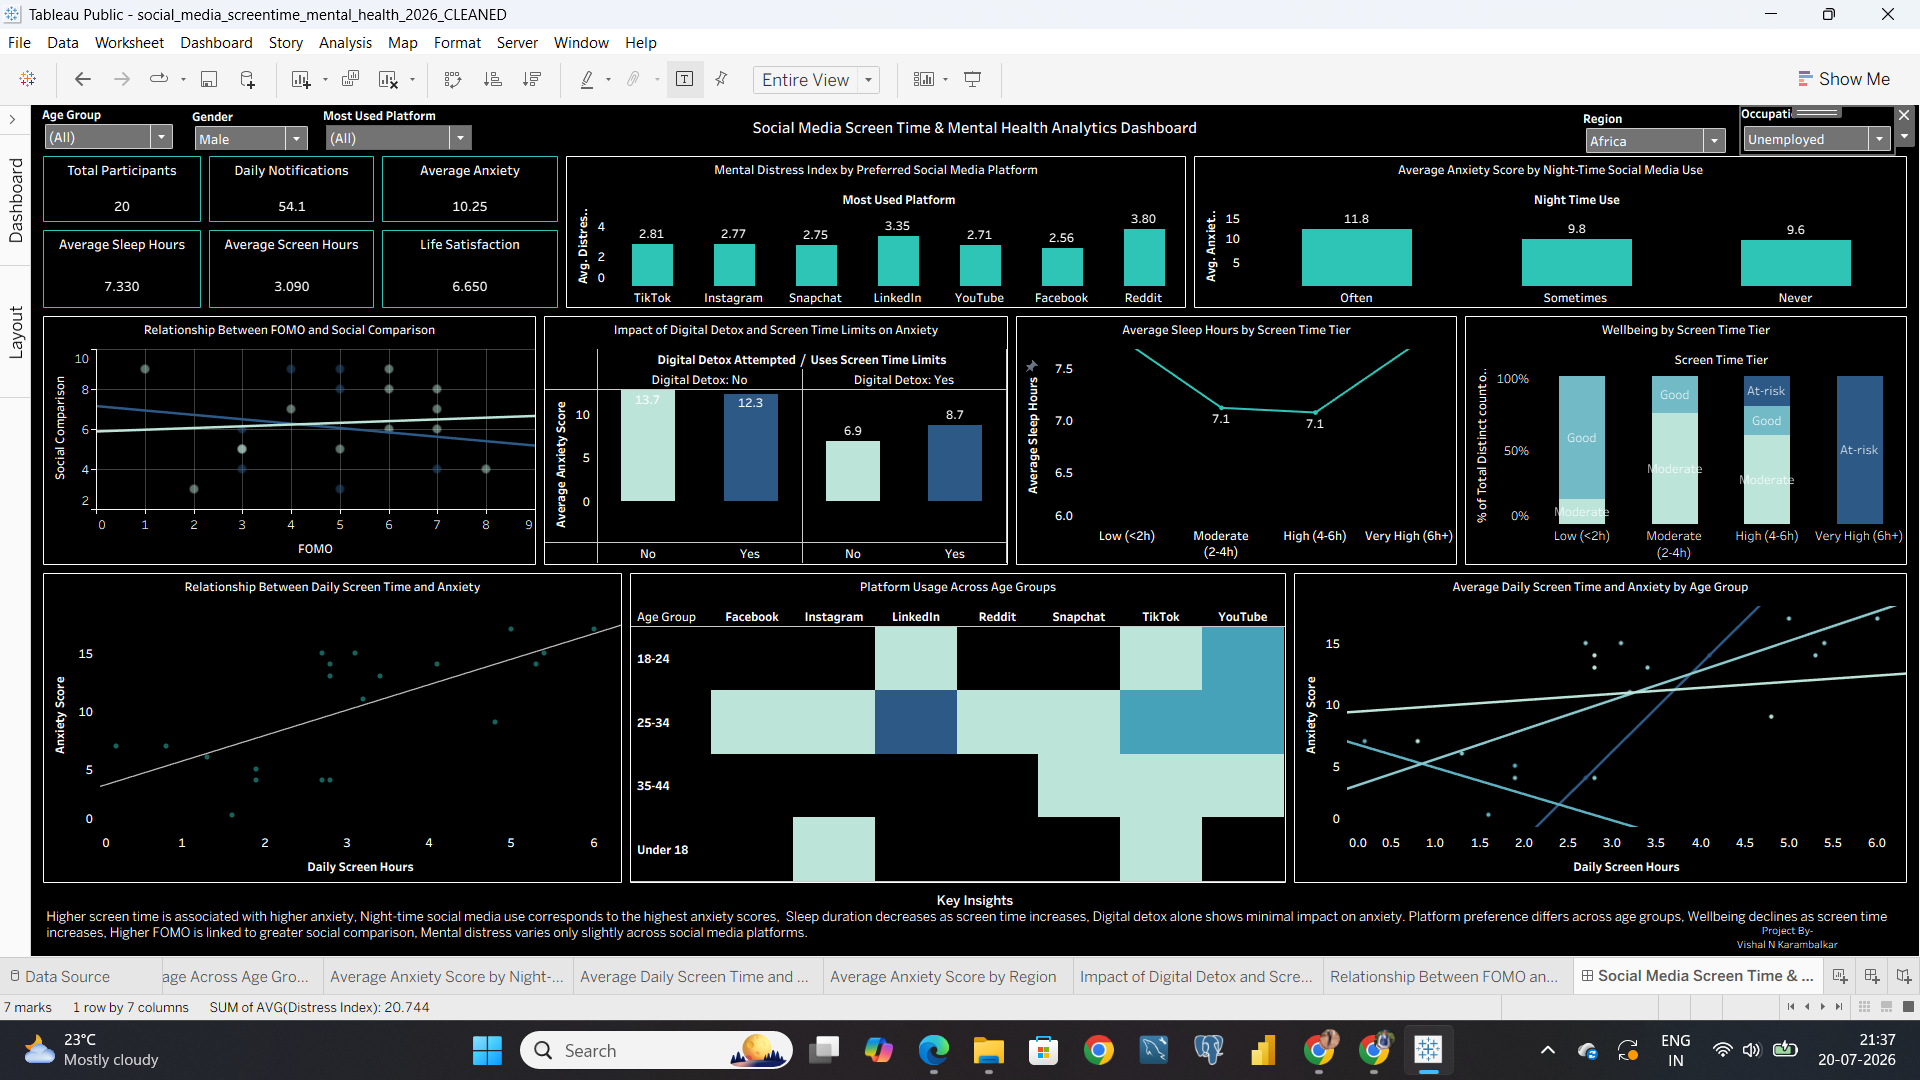

The page's visual inventory and layout, read from the dashboard file:
{"tool":"tableau","page":{"name":"Social Media Screen Time & Mental Health Analytics Dashboard","canvas":[1000,1000],"units":"permille","ordinal":0},"visuals":[{"type":"filter","title":"Mental Distress Index by Preferred Social Media Platform","param":"[federated.1sczvrt1bvneyr1fstjg40nrgwpp].[none:occupation:nk]","box":[905.7,0,80.8,57.6]},{"type":"filter","title":"Mental Distress Index by Preferred Social Media Platform","param":"[federated.1sczvrt1bvneyr1fstjg40nrgwpp].[none:age_group:nk]","box":[5.8,1.2,71,51.7]},{"type":"filter","title":"Mental Distress Index by Preferred Social Media Platform","param":"[federated.1sczvrt1bvneyr1fstjg40nrgwpp].[none:most_used_platform:nk]","box":[154.7,2.4,80.3,51.7]},{"type":"filter","title":"Mental Distress Index by Preferred Social Media Platform","param":"[federated.1sczvrt1bvneyr1fstjg40nrgwpp].[none:gender:nk]","box":[85.5,3.5,63.3,49.4]},{"type":"filter","title":"Mental Distress Index by Preferred Social Media Platform","param":"[federated.1sczvrt1bvneyr1fstjg40nrgwpp].[none:region:nk]","box":[821.9,5.9,77.3,50.5]},{"type":"text","box":[4.2,9.4,991.5,34.1]},{"type":"worksheet","title":"Total Participants","mark":"Automatic","box":[4.2,55.2,87.9,86.8]},{"type":"worksheet","title":"Daily Notifications","mark":"Automatic","box":[92.1,55.2,91.5,86.8]},{"type":"worksheet","title":"Average Anxiety","mark":"Automatic","box":[183.6,55.2,97.6,86.8]},{"type":"worksheet","title":"Mental Distress Index by Preferred Social Media Platform","mark":"Automatic","rows":["distress_index"],"cols":["most_used_platform"],"box":[281.2,55.2,332.8,188.2]},{"type":"worksheet","title":"Average Anxiety Score by Night-Time Social Media Use","mark":"Automatic","rows":["anxiety_score_0to27"],"cols":["night_time_use"],"box":[614,55.2,381.8,188.2]},{"type":"worksheet","title":"Average Sleep Hours","mark":"Automatic","box":[4.2,142.1,87.9,101.3]},{"type":"worksheet","title":"Average Screen Hours","mark":"Automatic","box":[92.1,142.1,91.5,101.3]},{"type":"worksheet","title":"Life Satisfaction","mark":"Automatic","box":[183.6,142.1,97.6,101.3]},{"type":"worksheet","title":"Relationship Between FOMO and Social Comparison","mark":"Circle","rows":["social_comparison_1to10"],"cols":["fomo_1to10"],"box":[4.2,243.4,265.5,301.8]},{"type":"worksheet","title":"Impact of Digital Detox and Screen Time Limits on Anxiety","mark":"Bar","rows":["anxiety_score_0to27"],"cols":["digital_detox_attempted","uses_screen_time_limits"],"box":[269.8,243.4,249.8,301.8]},{"type":"worksheet","title":"Average Sleep Hours by Screen Time Tier","mark":"Line","rows":["avg_sleep_hours"],"cols":["screen_time_tier"],"box":[519.5,243.4,238.1,301.8]},{"type":"worksheet","title":"Wellbeing by Screen Time Tier","mark":"Bar","cols":["screen_time_tier"],"box":[757.6,243.4,238.1,301.8]},{"type":"worksheet","title":"Relationship Between Daily Screen Time and Anxiety","mark":"Circle","rows":["anxiety_score_0to27"],"cols":["daily_screen_hours"],"box":[4.2,545.2,310.7,373.2]},{"type":"worksheet","title":"Platform Usage Across Age Groups","mark":"Automatic","rows":["age_group"],"cols":["most_used_platform"],"box":[314.9,545.2,351.8,373.2]},{"type":"worksheet","title":"Average Daily Screen Time and Anxiety by Age Group","mark":"Circle","rows":["anxiety_score_0to27"],"cols":["daily_screen_hours"],"box":[666.8,545.2,329,373.2]},{"type":"text","box":[4.2,918.4,991.5,72.2]},{"type":"text","box":[885.1,956.5,90.6,42.3]}]}

Visuals, with their boxes on the dashboard's canvas, which has no fixed pixel size, in thousandths of its width and height (x1, y1, x2, y2). These are canvas units, not pixel positions in the 1920x1080 screenshot, which may show the page scaled, cropped or inside an application window:
"Mental Distress Index by Preferred Social Media Platform" filter: box(906, 0, 986, 58)
"Mental Distress Index by Preferred Social Media Platform" filter: box(6, 1, 77, 53)
"Mental Distress Index by Preferred Social Media Platform" filter: box(155, 2, 235, 54)
"Mental Distress Index by Preferred Social Media Platform" filter: box(86, 4, 149, 53)
"Mental Distress Index by Preferred Social Media Platform" filter: box(822, 6, 899, 56)
text: box(4, 9, 996, 44)
"Total Participants" worksheet: box(4, 55, 92, 142)
"Daily Notifications" worksheet: box(92, 55, 184, 142)
"Average Anxiety" worksheet: box(184, 55, 281, 142)
"Mental Distress Index by Preferred Social Media Platform" worksheet: box(281, 55, 614, 243)
"Average Anxiety Score by Night-Time Social Media Use" worksheet: box(614, 55, 996, 243)
"Average Sleep Hours" worksheet: box(4, 142, 92, 243)
"Average Screen Hours" worksheet: box(92, 142, 184, 243)
"Life Satisfaction" worksheet: box(184, 142, 281, 243)
"Relationship Between FOMO and Social Comparison" worksheet (Circle marks): box(4, 243, 270, 545)
"Impact of Digital Detox and Screen Time Limits on Anxiety" worksheet (Bar marks): box(270, 243, 520, 545)
"Average Sleep Hours by Screen Time Tier" worksheet (Line marks): box(520, 243, 758, 545)
"Wellbeing by Screen Time Tier" worksheet (Bar marks): box(758, 243, 996, 545)
"Relationship Between Daily Screen Time and Anxiety" worksheet (Circle marks): box(4, 545, 315, 918)
"Platform Usage Across Age Groups" worksheet: box(315, 545, 667, 918)
"Average Daily Screen Time and Anxiety by Age Group" worksheet (Circle marks): box(667, 545, 996, 918)
text: box(4, 918, 996, 991)
text: box(885, 956, 976, 999)
